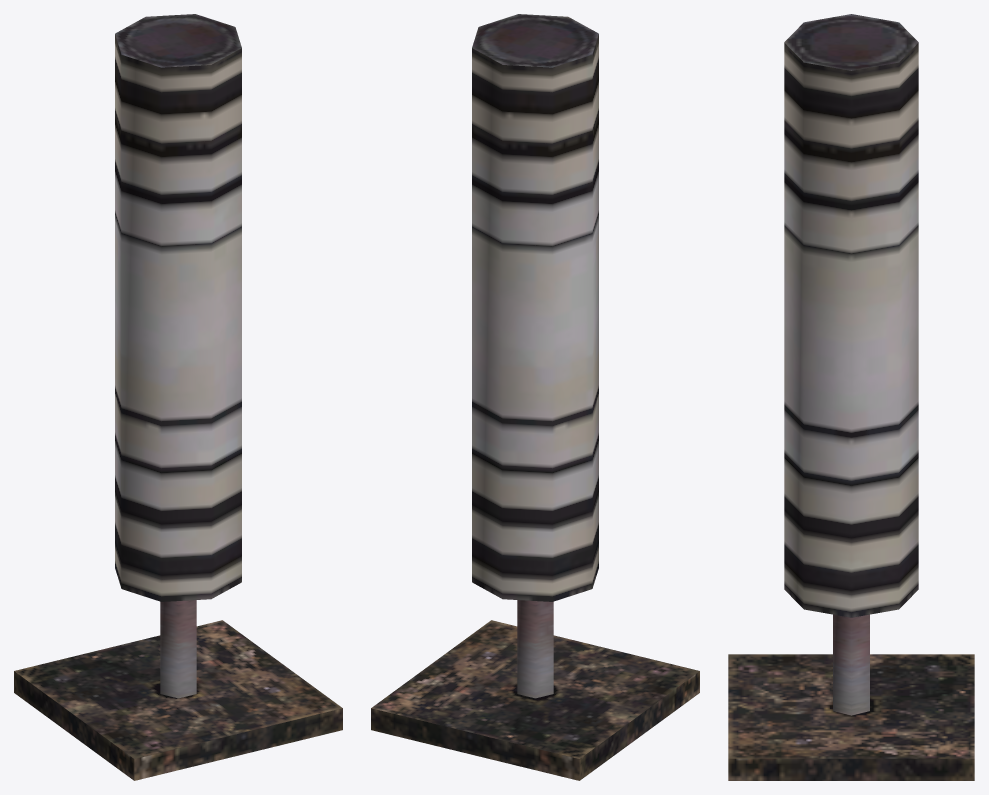
The model's file is frn_all_lamp_desk_s2_l0.fbx.
3 views of the same model, side by side, from view 1: azimuth 30°, elevation 25°; view 2: azimuth 150°, elevation 25°; view 3: azimuth 270°, elevation 25° (orthographic). The views are drawn at different scales.
Parts seen in each view (by area): view 1: mesh_node; view 2: mesh_node; view 3: mesh_node.
Part boxes in pixels (left/top/right/bottom): mesh_node: left=14, top=14, right=342, bottom=780; mesh_node: left=371, top=14, right=699, bottom=780; mesh_node: left=728, top=14, right=974, bottom=780.
Size of the model in its own units: 0.1831 by 0.5625 by 0.1831.
Materials: 1 (1 with a texture image).
